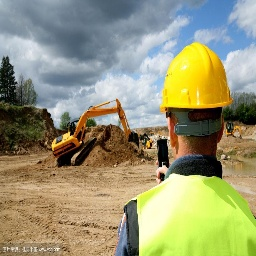helmet: (158, 43, 236, 110)
person: (106, 40, 256, 256)
vest: (120, 170, 255, 256)
